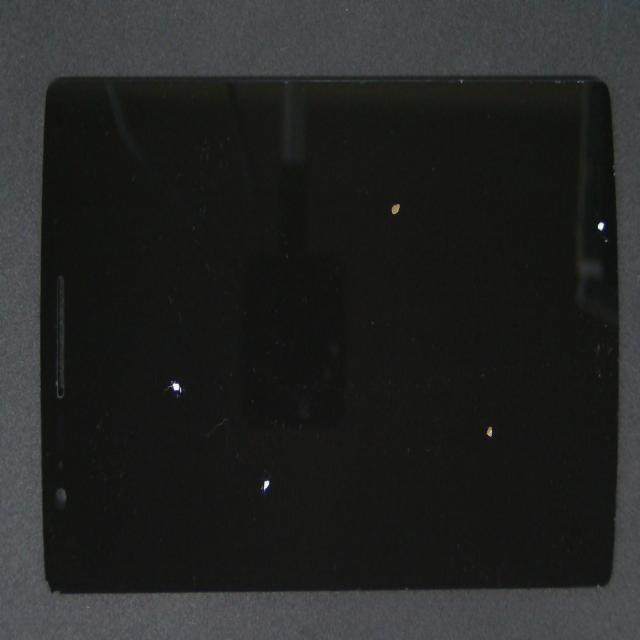stain: (255, 189, 640, 621), (94, 246, 377, 640), (173, 88, 574, 339), (306, 54, 640, 317), (31, 239, 247, 640)
